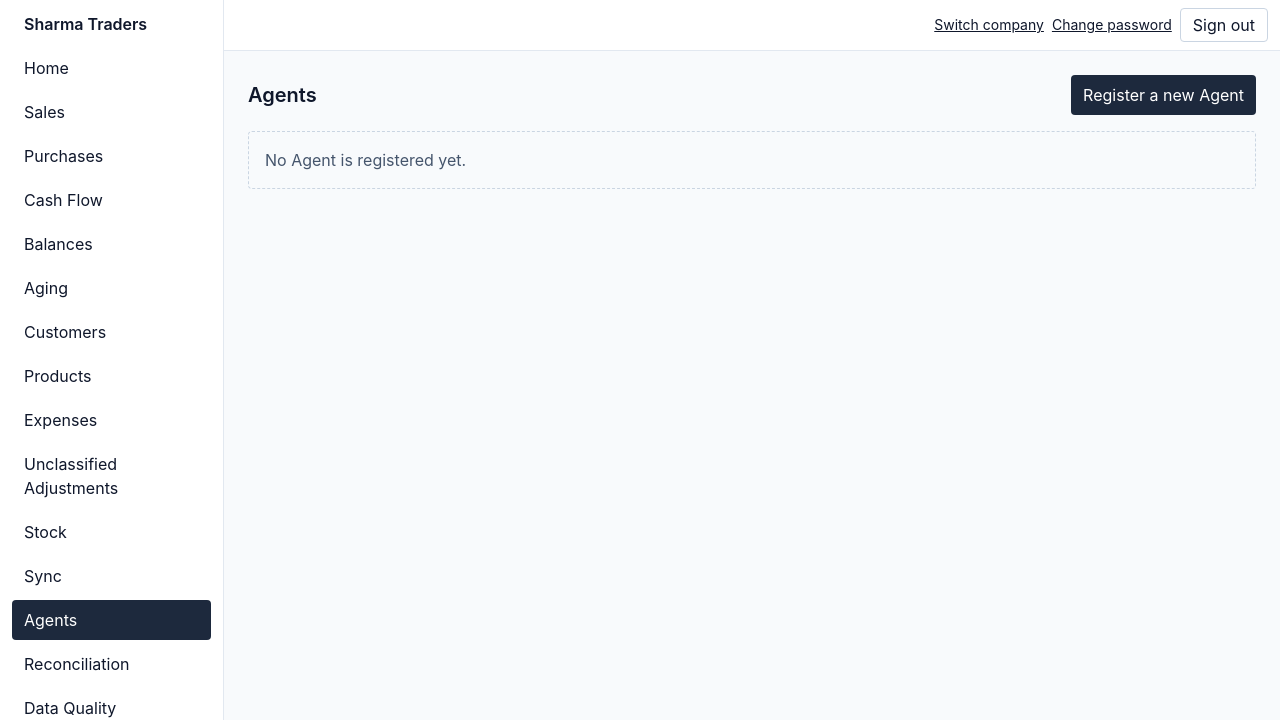
Test: Agents page (FR-4.4) › shows a registration token once, with its expiry in company time
This screenshot has width=1280, height=720.
Click the button "Register a new Agent" at x=1164, y=95, box [1071,75,1256,115]
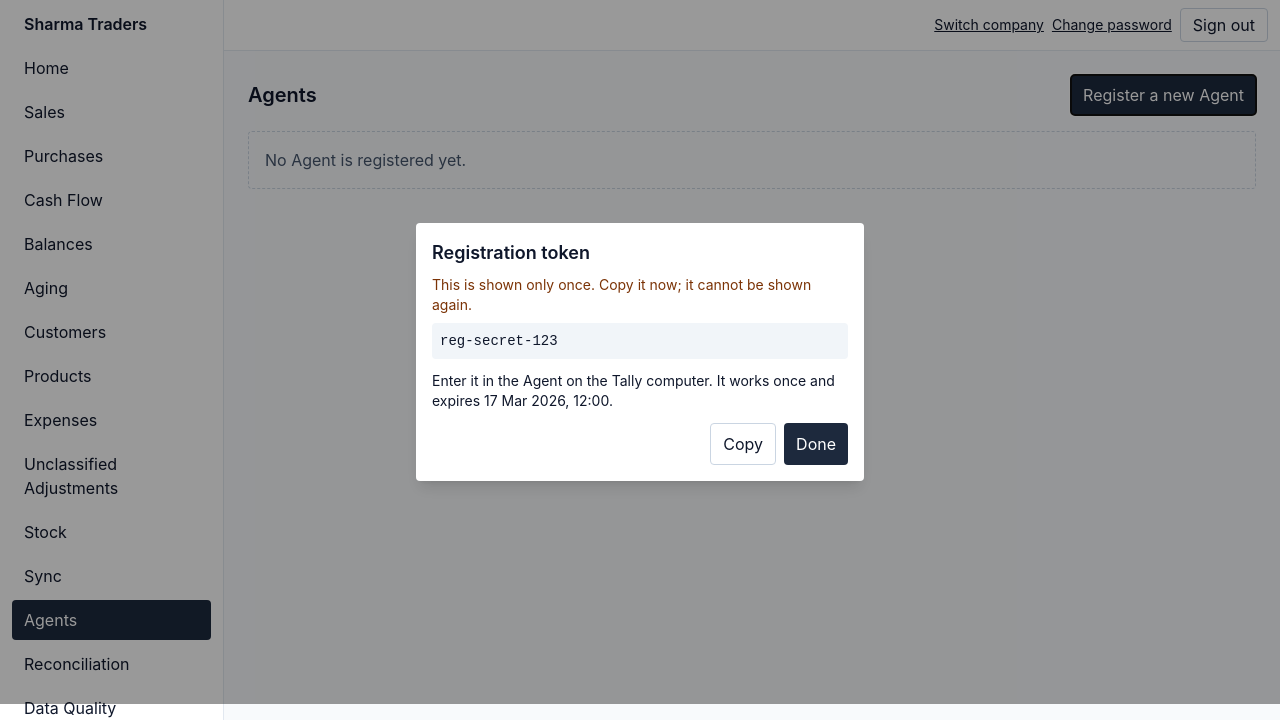
Now the text "reg-secret-123" is shown, box [432,323,848,359]
Now the dialog "Registration token" shows "expires 17 Mar 2026, 12:00"
Click the button "Done" at x=816, y=444, box [784,423,848,465]
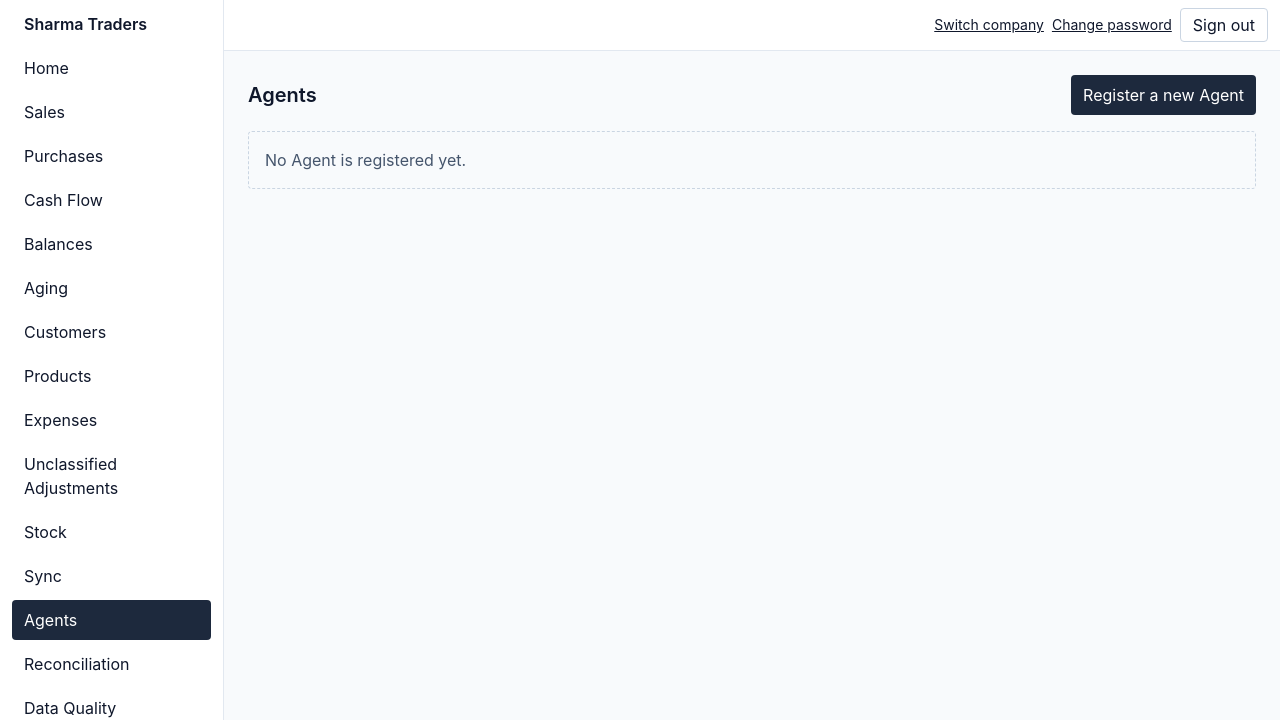
Now the text "reg-secret-123" is gone
